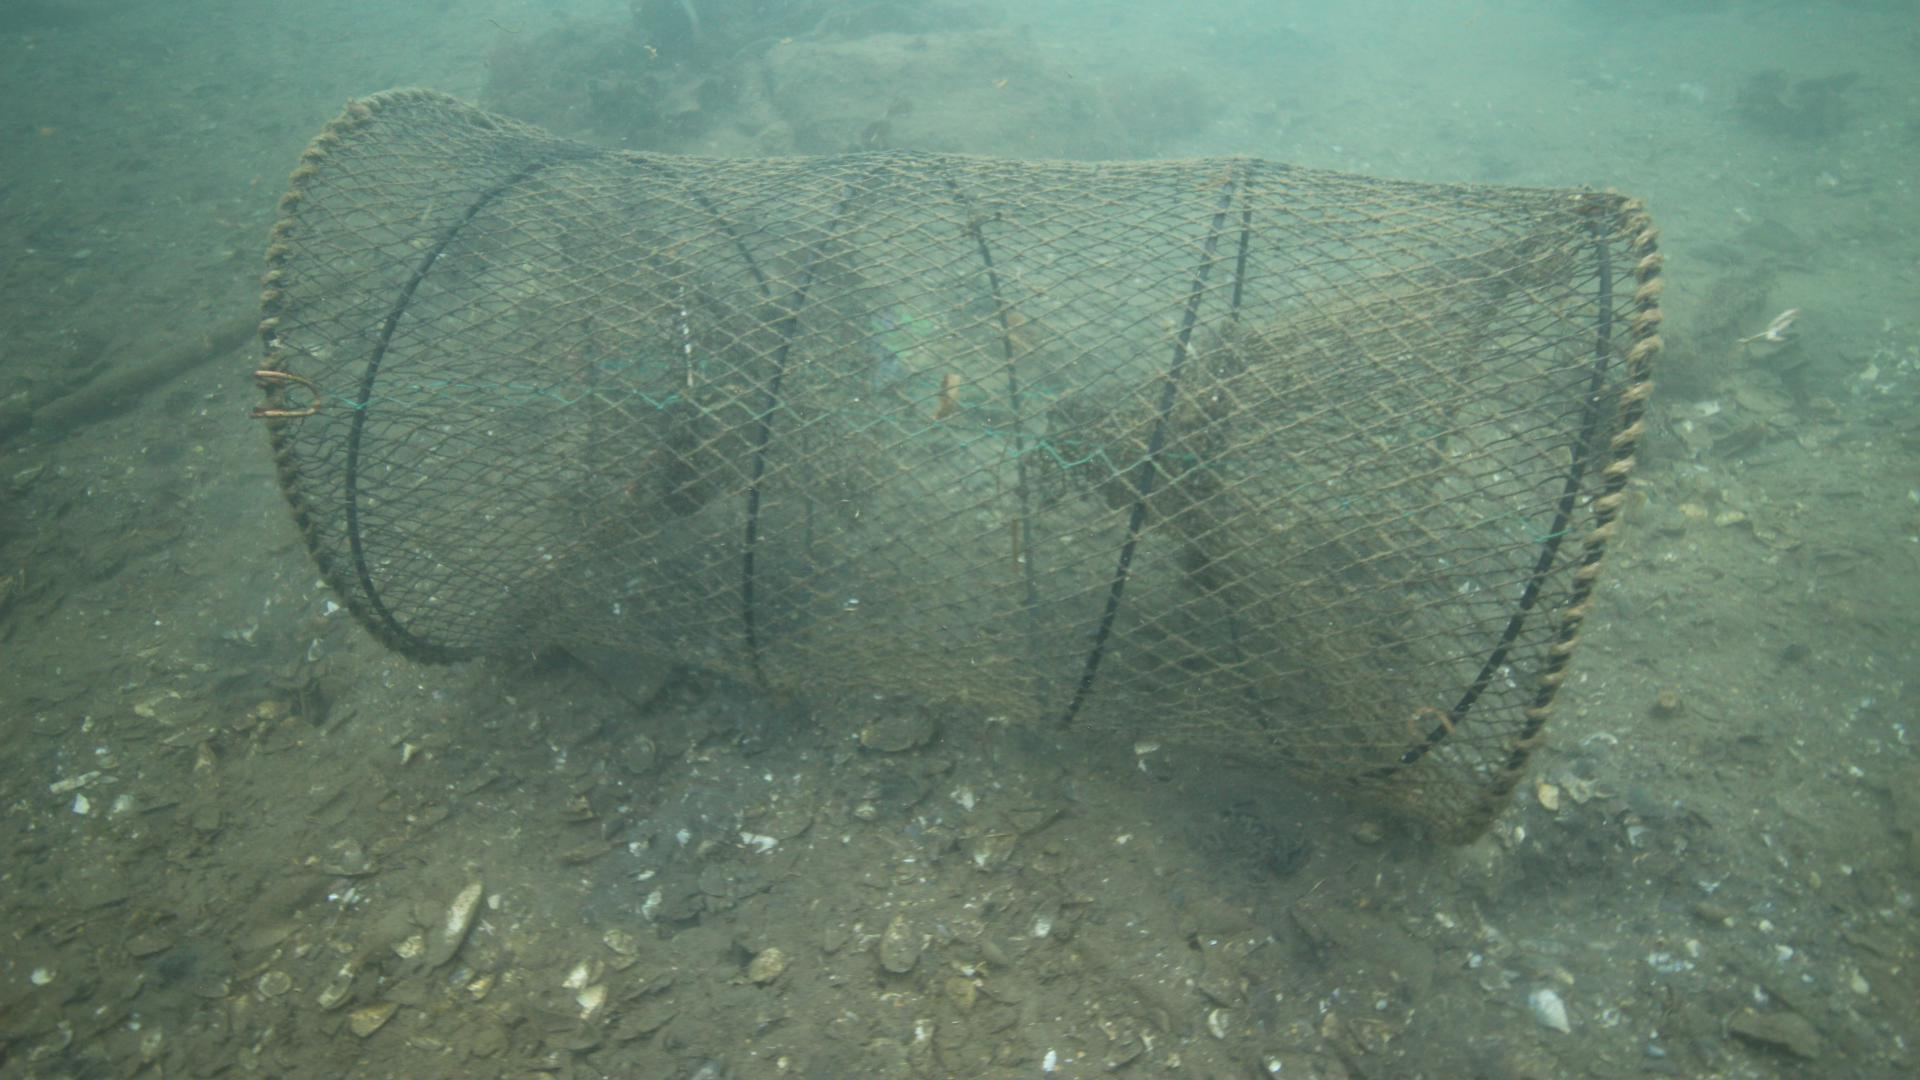spring fish trap: (251, 78, 1664, 841)
